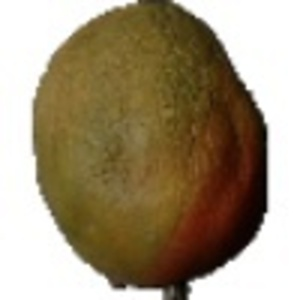mamão: (21, 1, 273, 286)
